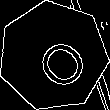O_NW: (20, 23, 87, 89)
